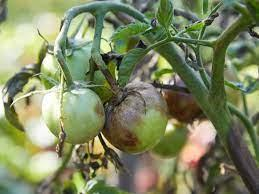tomato late blight: (15, 81, 107, 160), (102, 83, 188, 159), (161, 90, 209, 136)
